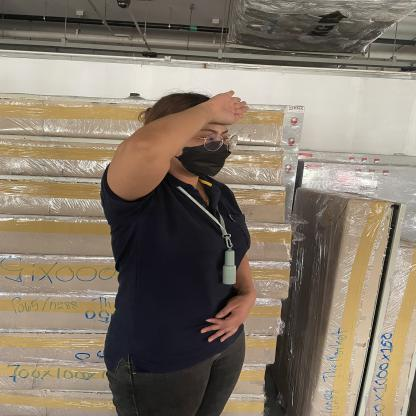Sick: (174, 75, 270, 127)
